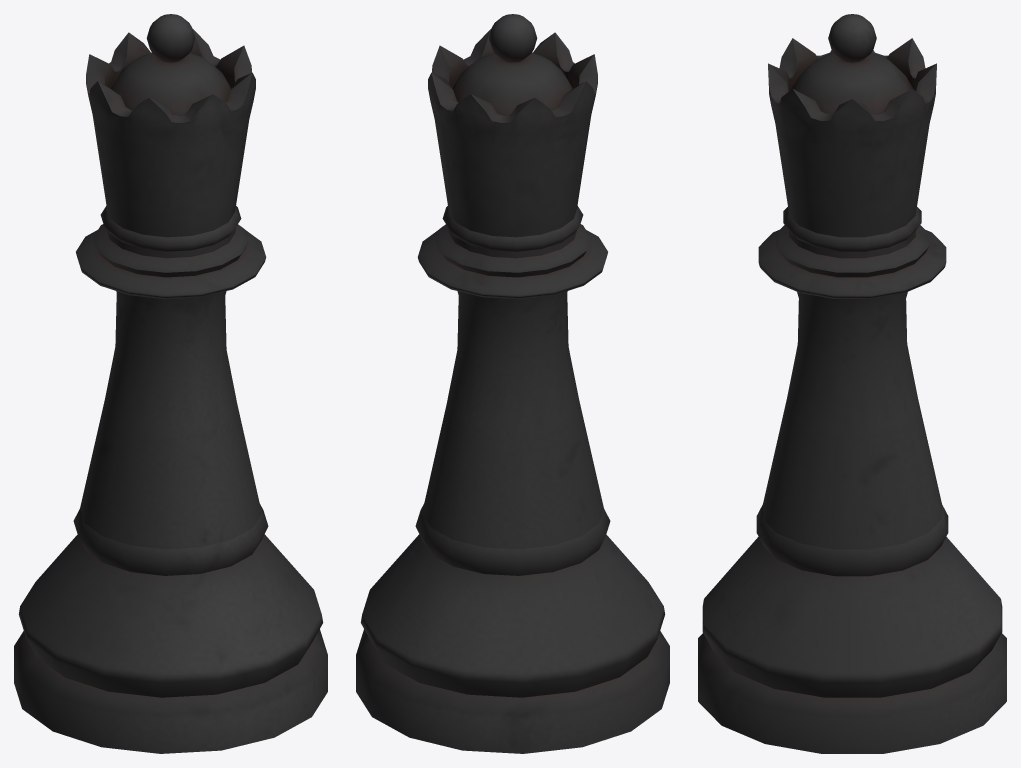
Rendered from item-4.glb.
3 views of the same model, side by side, from view 1: azimuth 30°, elevation 25°; view 2: azimuth 150°, elevation 25°; view 3: azimuth 270°, elevation 25° (orthographic).
Visible parts, largest first — view 1: BlackQueen; view 2: BlackQueen; view 3: BlackQueen.
Boxes of the visible parts, x1,y1,x2,y2 form: BlackQueen: (14, 14, 327, 753); BlackQueen: (356, 14, 669, 753); BlackQueen: (698, 14, 1006, 753).
Size of the model in its own units: 0.0968 by 0.2326 by 0.0968.
Materials: 1 (1 with a texture image).
